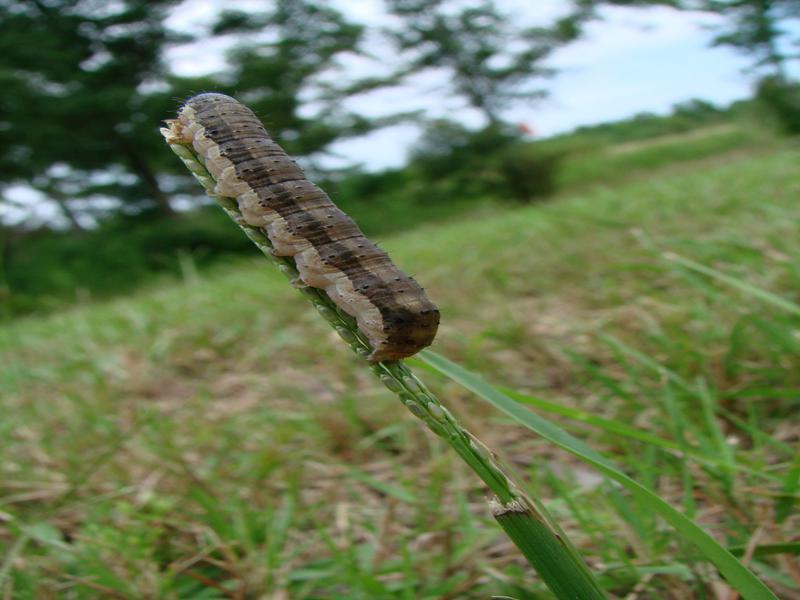Armyworms: (149, 82, 460, 369)
